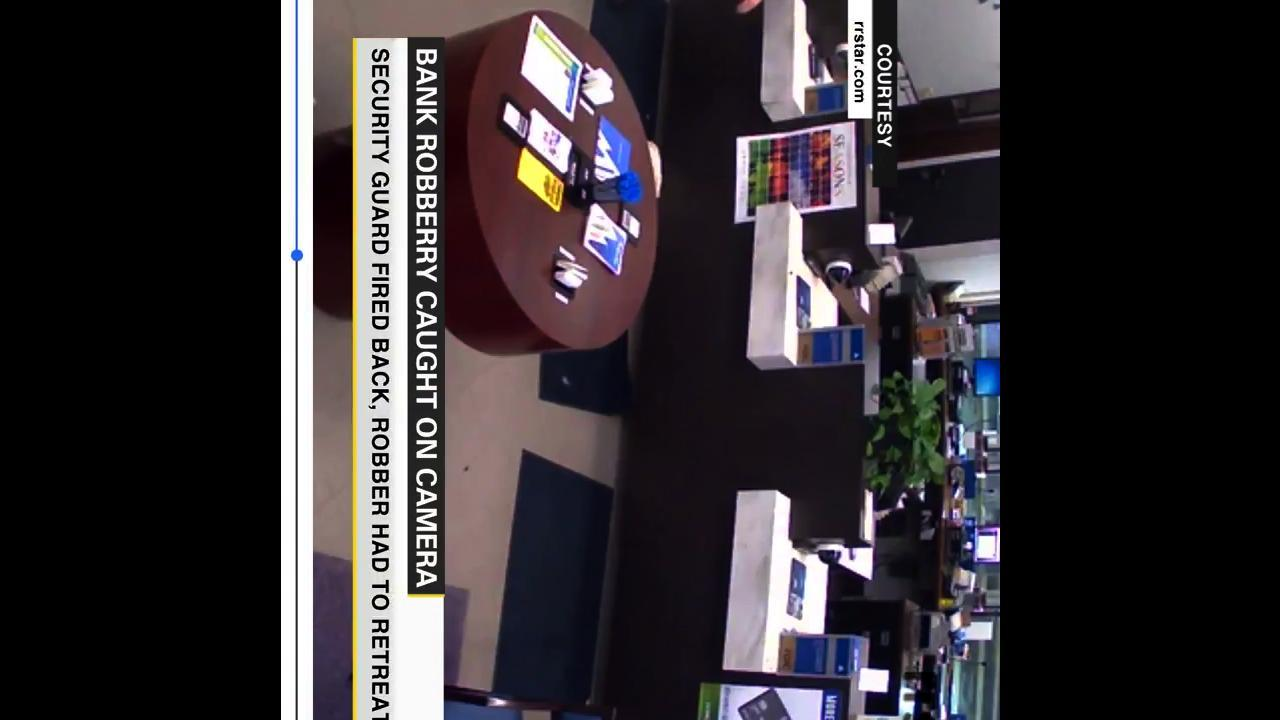gun: (694, 0, 739, 12)
